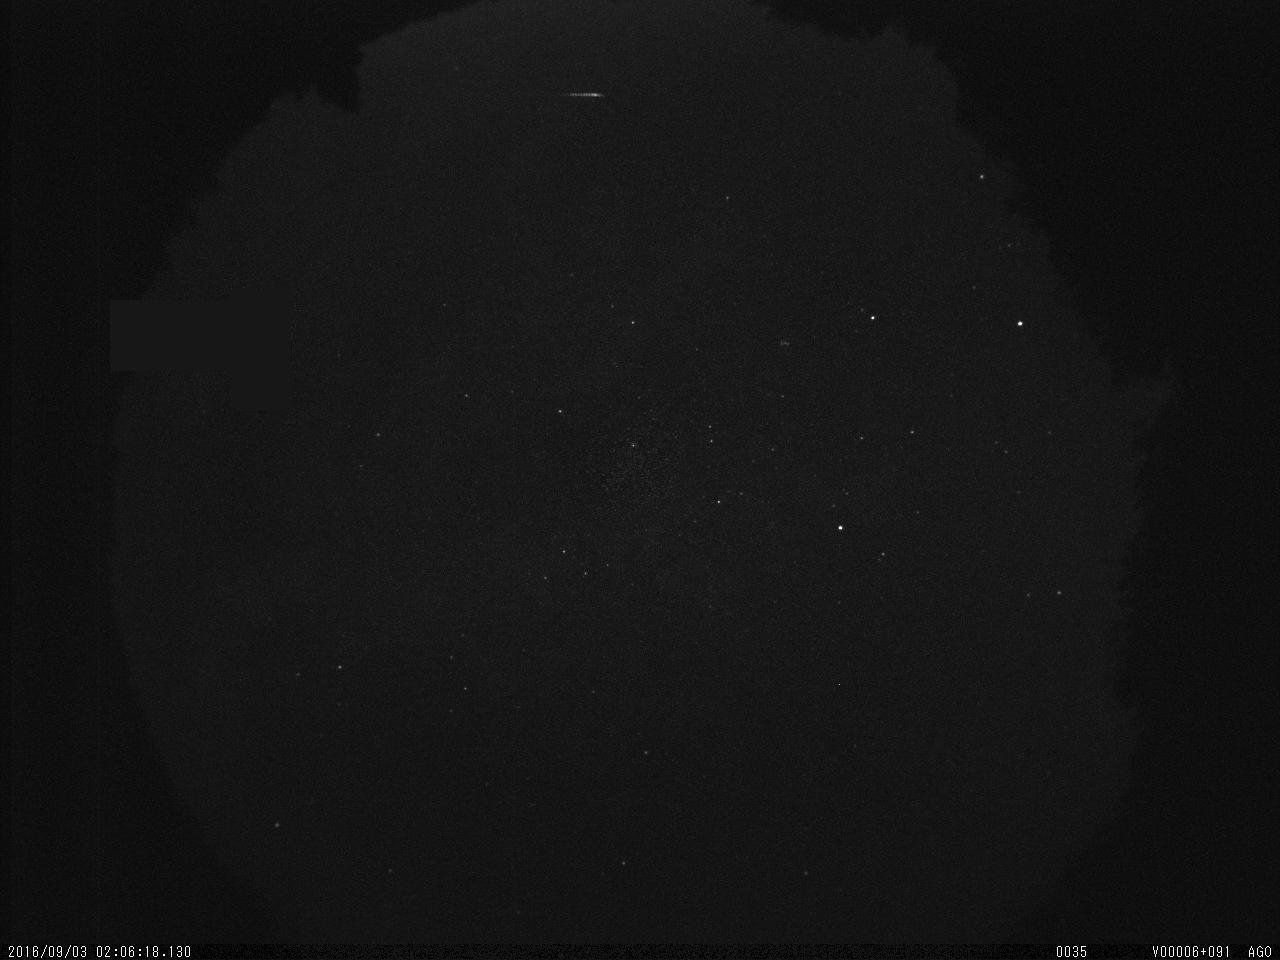meteor: (550, 80, 612, 112)
